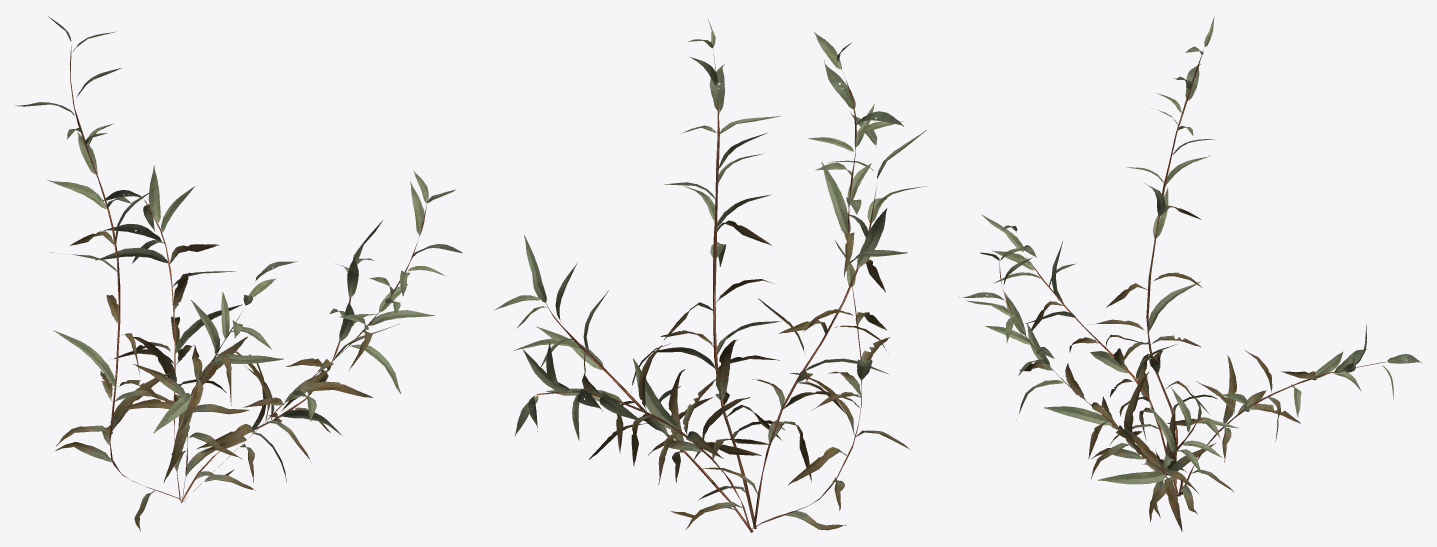
The model's file is ph-shrub-02.lod1.glb.
3 renders of one model, left to right at view 1: azimuth 30°, elevation 25°; view 2: azimuth 150°, elevation 25°; view 3: azimuth 270°, elevation 25°, orthographic. The views are drawn at different scales.
Visible parts, largest first — view 1: shrub_02_a; view 2: shrub_02_a; view 3: shrub_02_a.
Part boxes in pixels (x1=…): shrub_02_a: x1=15, y1=16, x2=462, y2=531; shrub_02_a: x1=494, y1=19, x2=926, y2=532; shrub_02_a: x1=959, y1=17, x2=1422, y2=531.
Bounding box in the file's own units: 1.31 × 1.69 × 1.64.
1 material, 1 textured.
